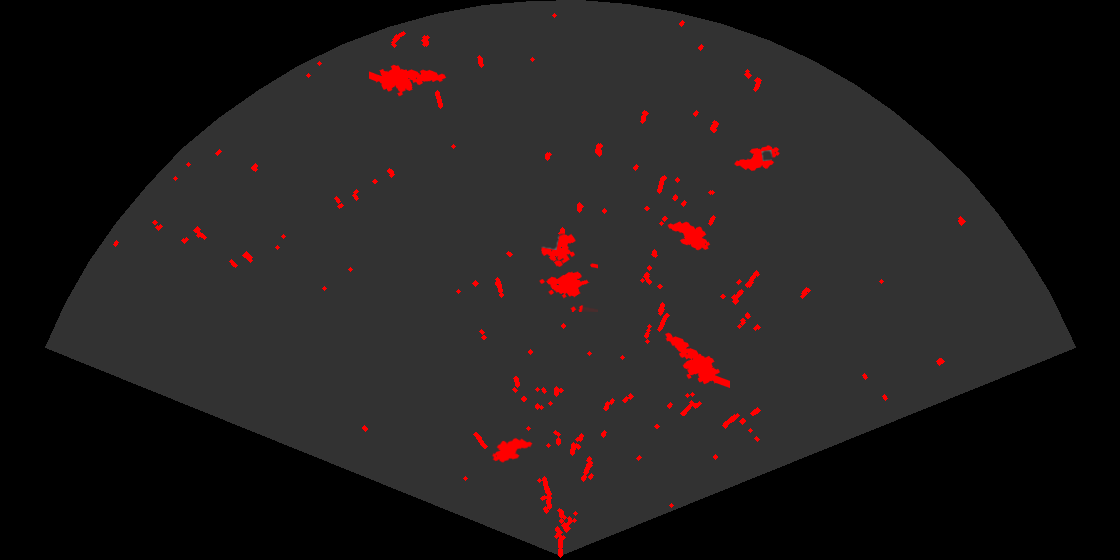AUV: (666, 220, 712, 252), (733, 144, 781, 173), (490, 436, 534, 464)
cage: (538, 232, 598, 312)
frogman: (663, 331, 730, 390), (369, 63, 448, 98)
